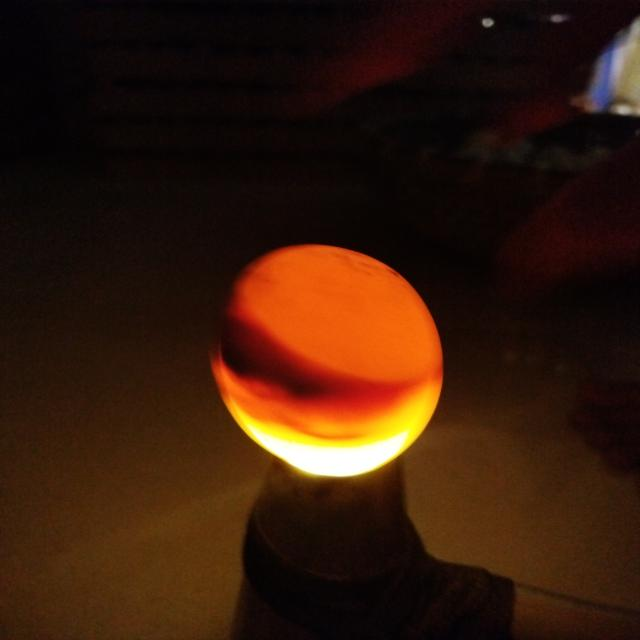Area Infectada: (218, 288, 323, 399)
